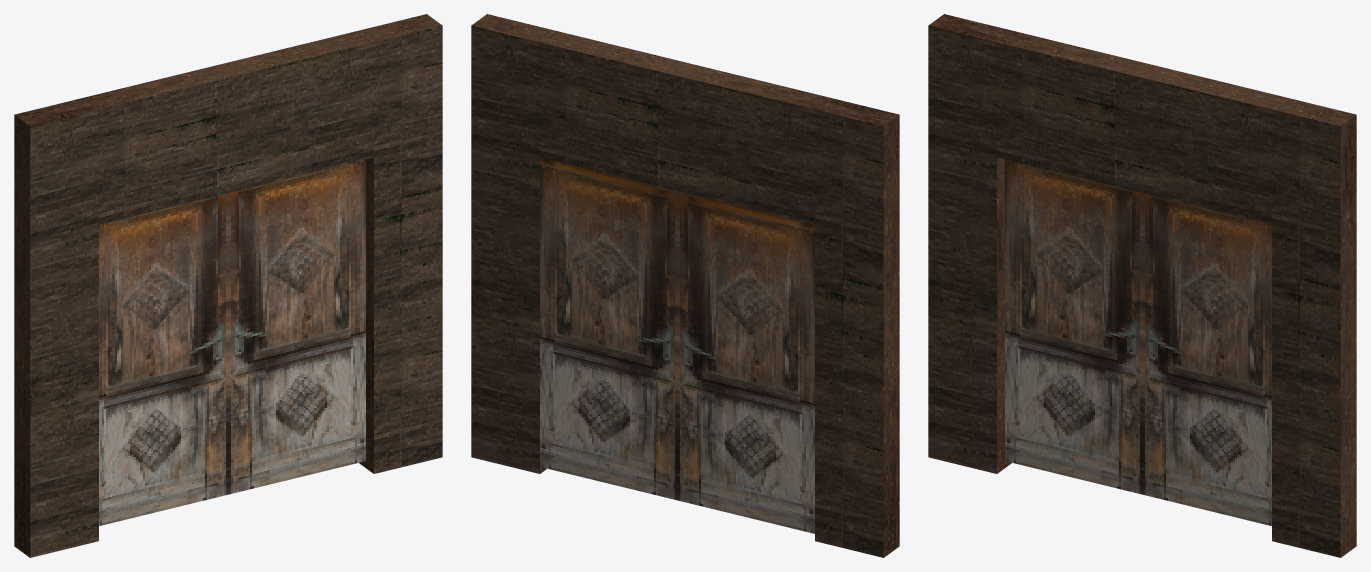
File: door_double_03.glb
3 views of the same model, side by side, from view 1: azimuth 30°, elevation 25°; view 2: azimuth 150°, elevation 25°; view 3: azimuth 330°, elevation 25° (orthographic).
Visible parts, largest first — view 1: door_double_032, door_03_003, door_03_001; view 2: door_double_032, door_03_001, door_03_003; view 3: door_double_032, door_03_001, door_03_003.
Part boxes in pixels (<box>): door_double_032: <box>14,14,442,557</box>; door_03_003: <box>228,159,365,494</box>; door_03_001: <box>99,193,228,525</box>; door_double_032: <box>471,14,899,557</box>; door_03_001: <box>677,191,814,533</box>; door_03_003: <box>540,157,677,500</box>; door_double_032: <box>928,14,1356,557</box>; door_03_001: <box>1005,159,1142,494</box>; door_03_003: <box>1142,193,1271,525</box>.
Size of the model in its own units: 3 by 3 by 0.2.
Materials: 3 (3 with a texture image).
